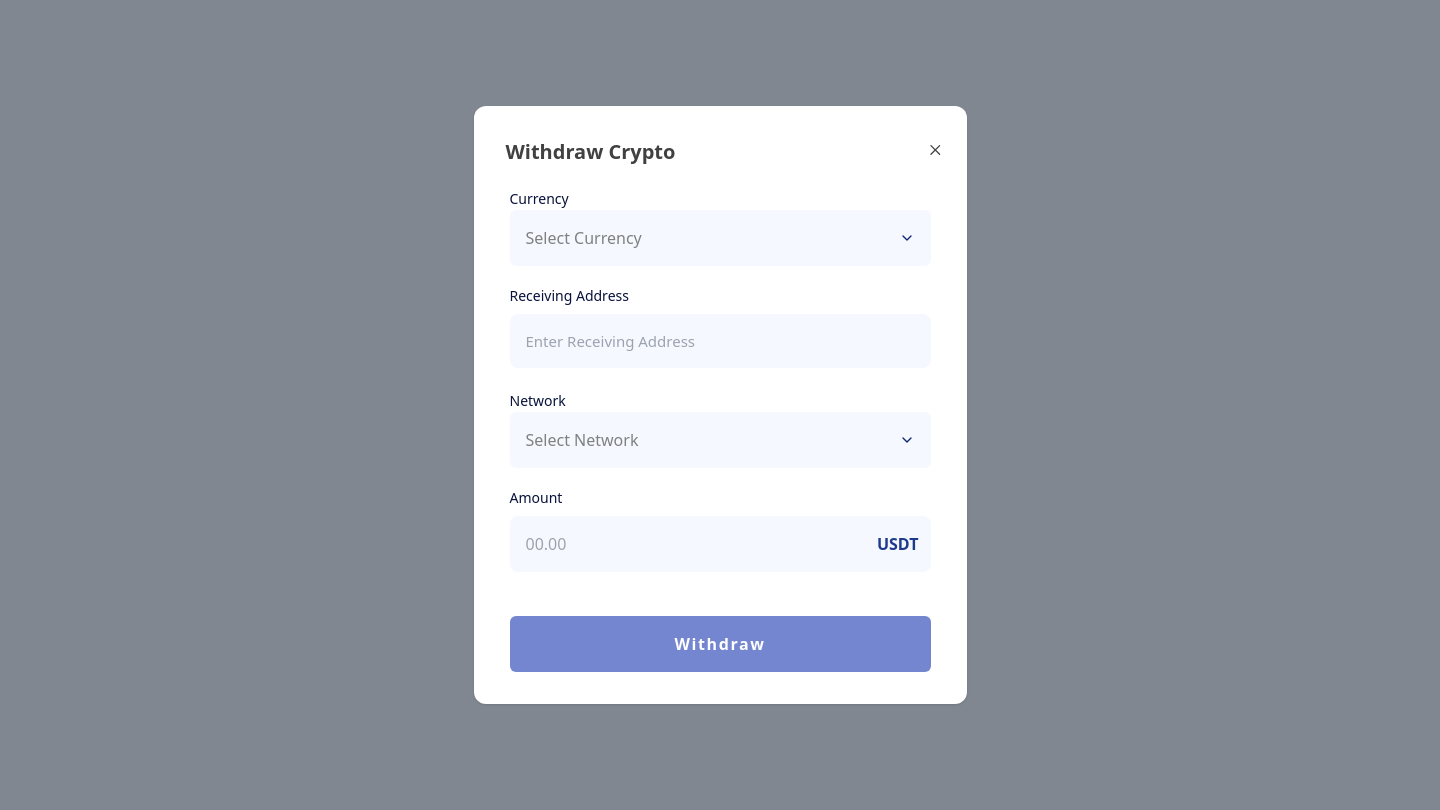
Scenario: Withdraw page end-to-end validations › shows API-provided error when fee calculation fails
# Must select currency so amountError is evaluated
Click the element with test id "Select Currency" at [720, 238], box 510,210 -> 930,266
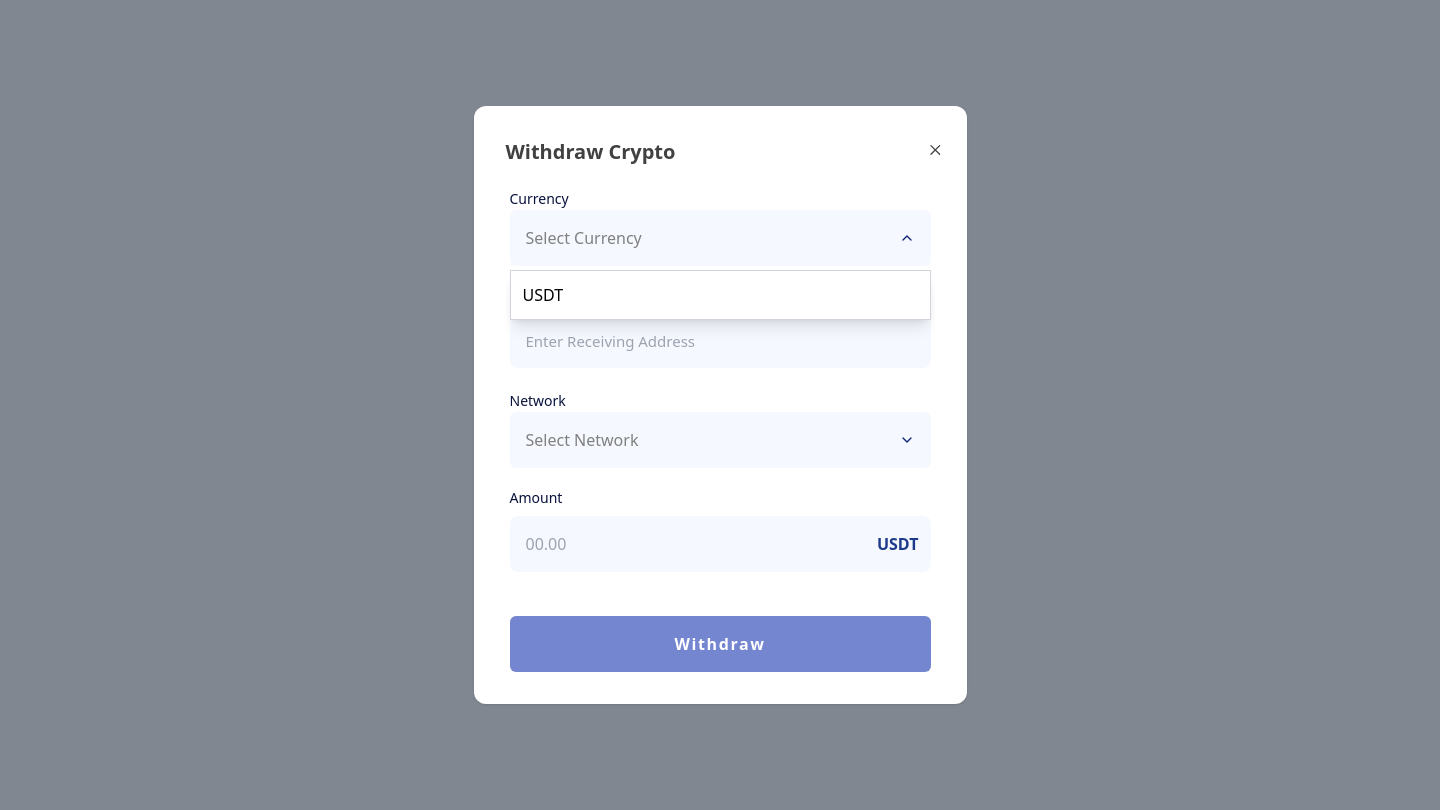
Click the list item with test id "USDT button" at [543, 295], box 522,284 -> 563,306
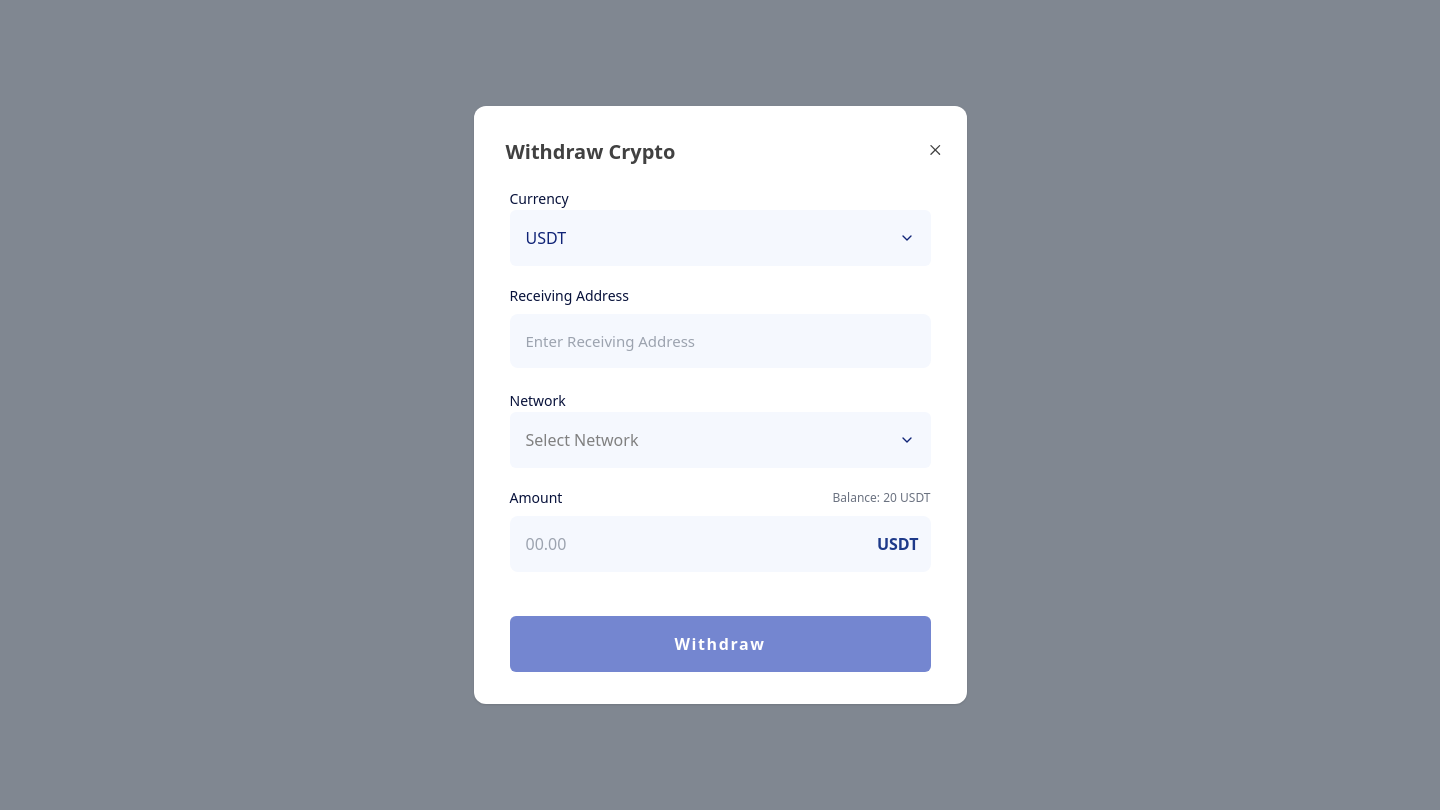
Click the element with test id "Select Network" at [720, 440], box 510,412 -> 930,468
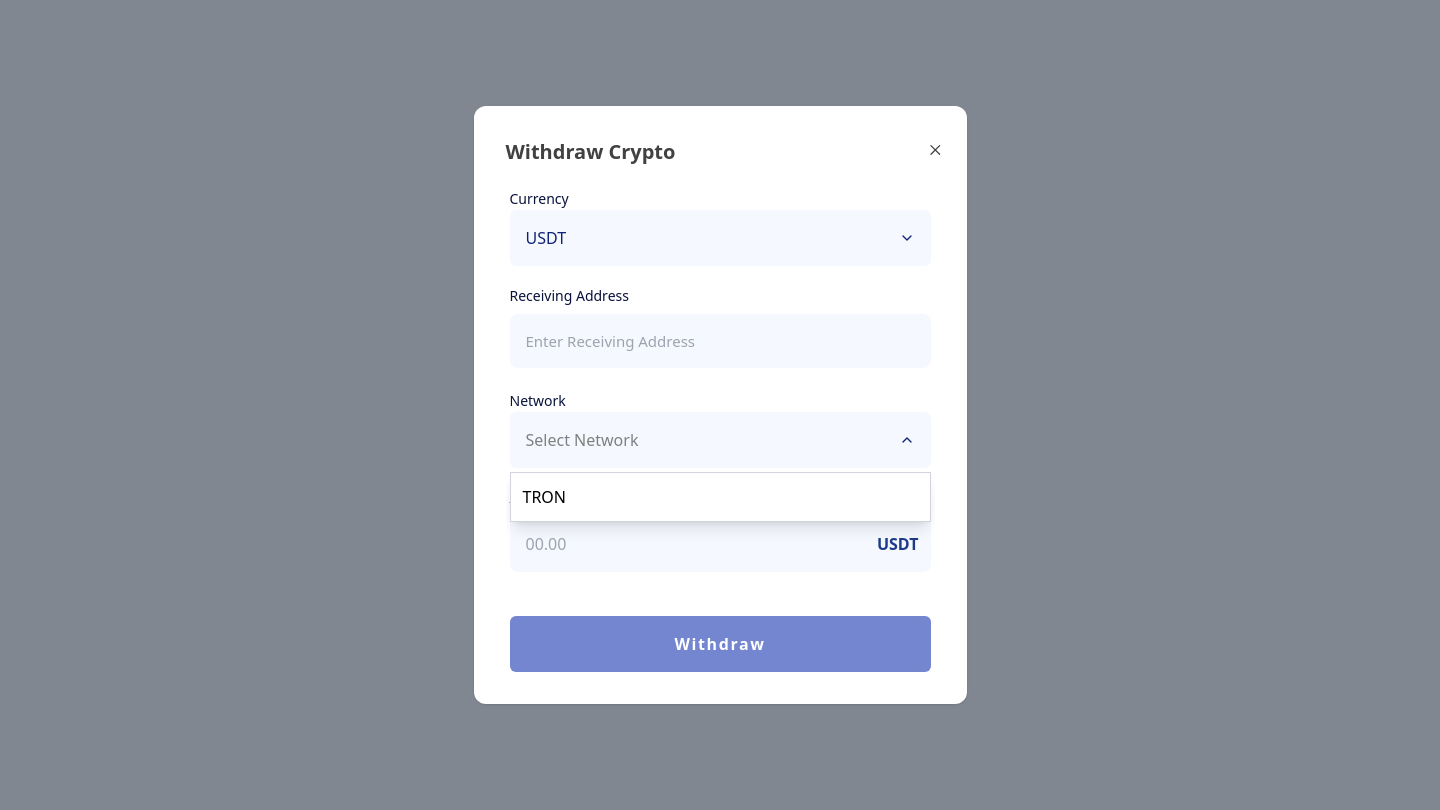
Click the list item with test id "TRON button" at [544, 497], box 522,486 -> 566,508
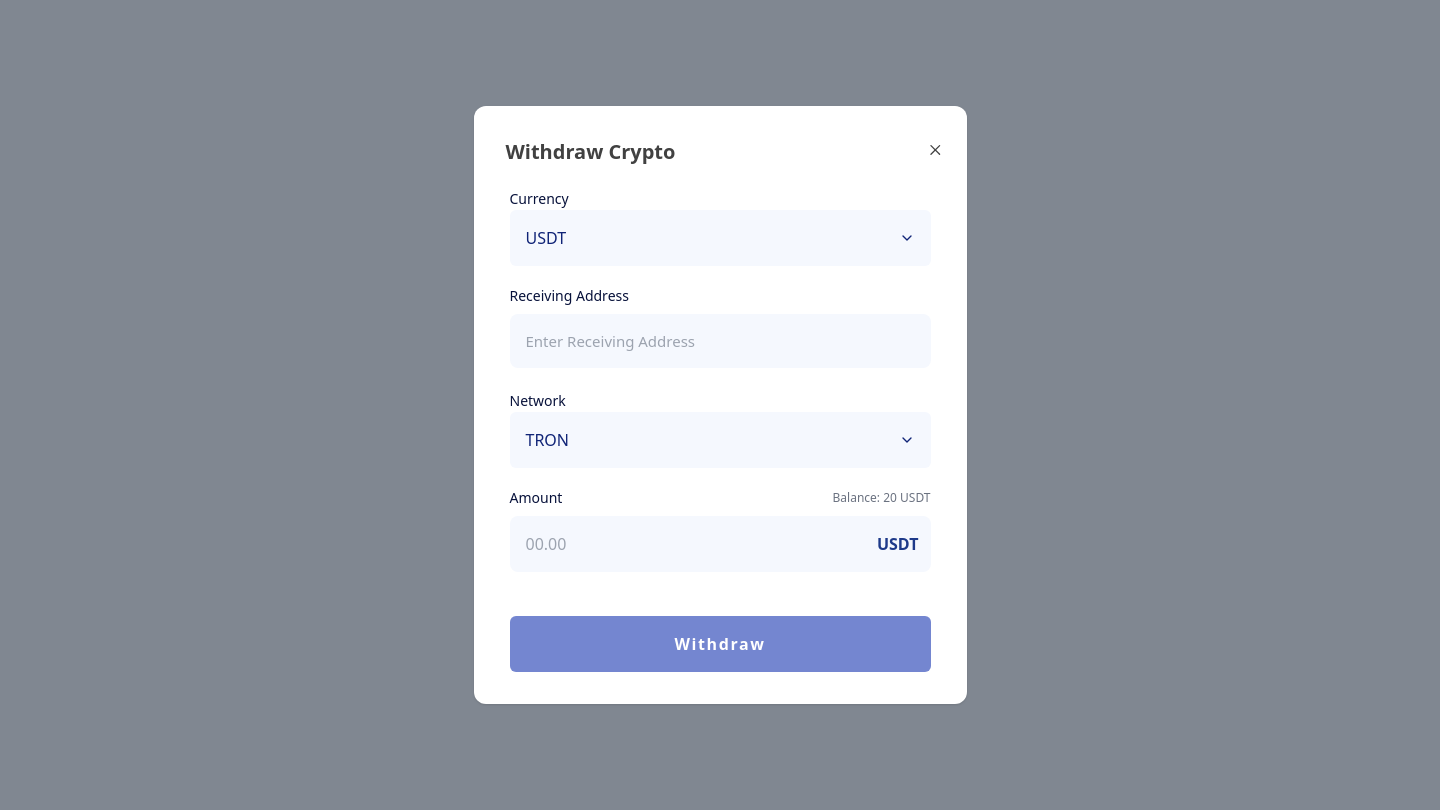
# Enter amount above minimum and within balance
Type "12" into the number field with placeholder "00.00" at [720, 544], box 510,516 -> 930,572
Wait 1000 ms
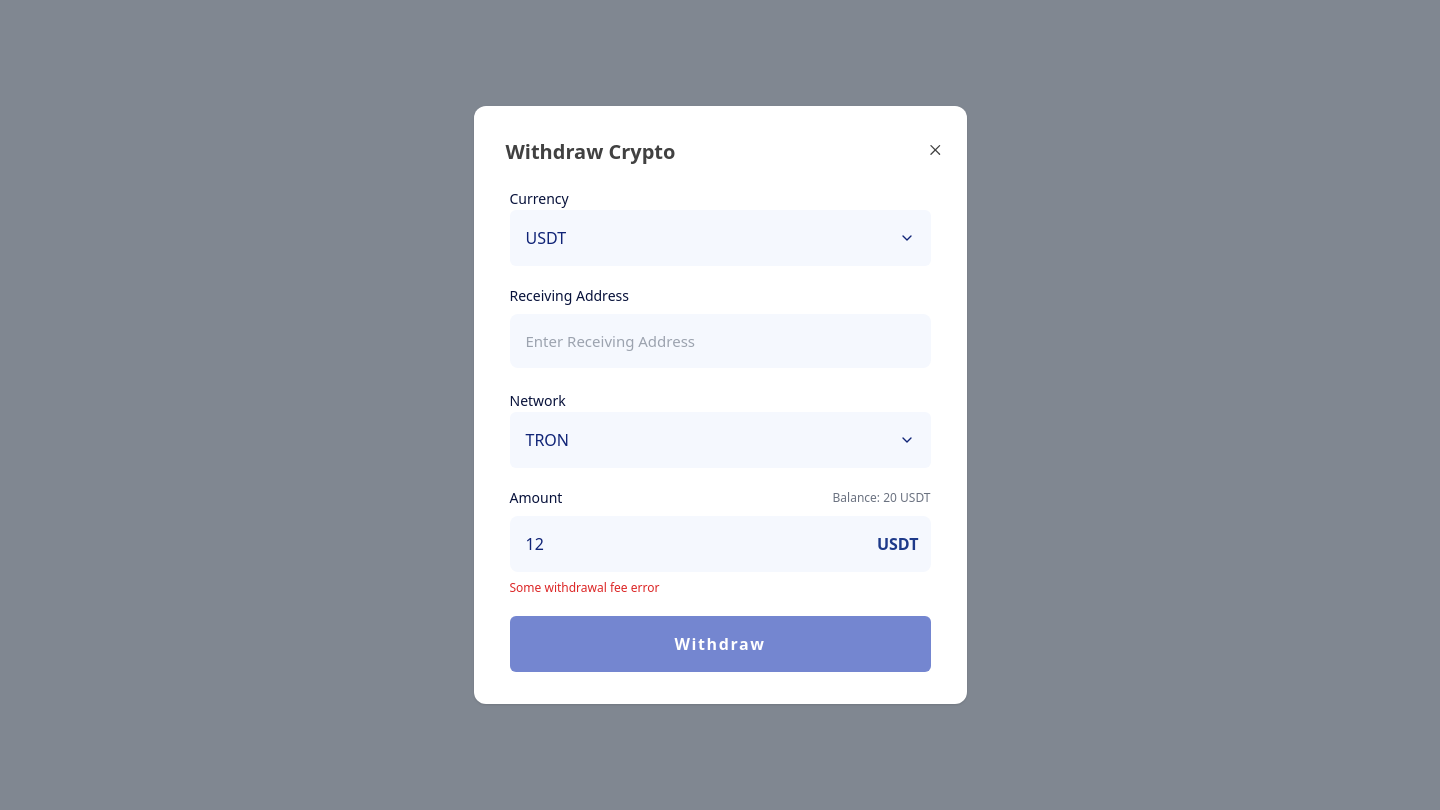
Expected: the text "Some withdrawal fee error" is shown, 510,579 -> 659,596
